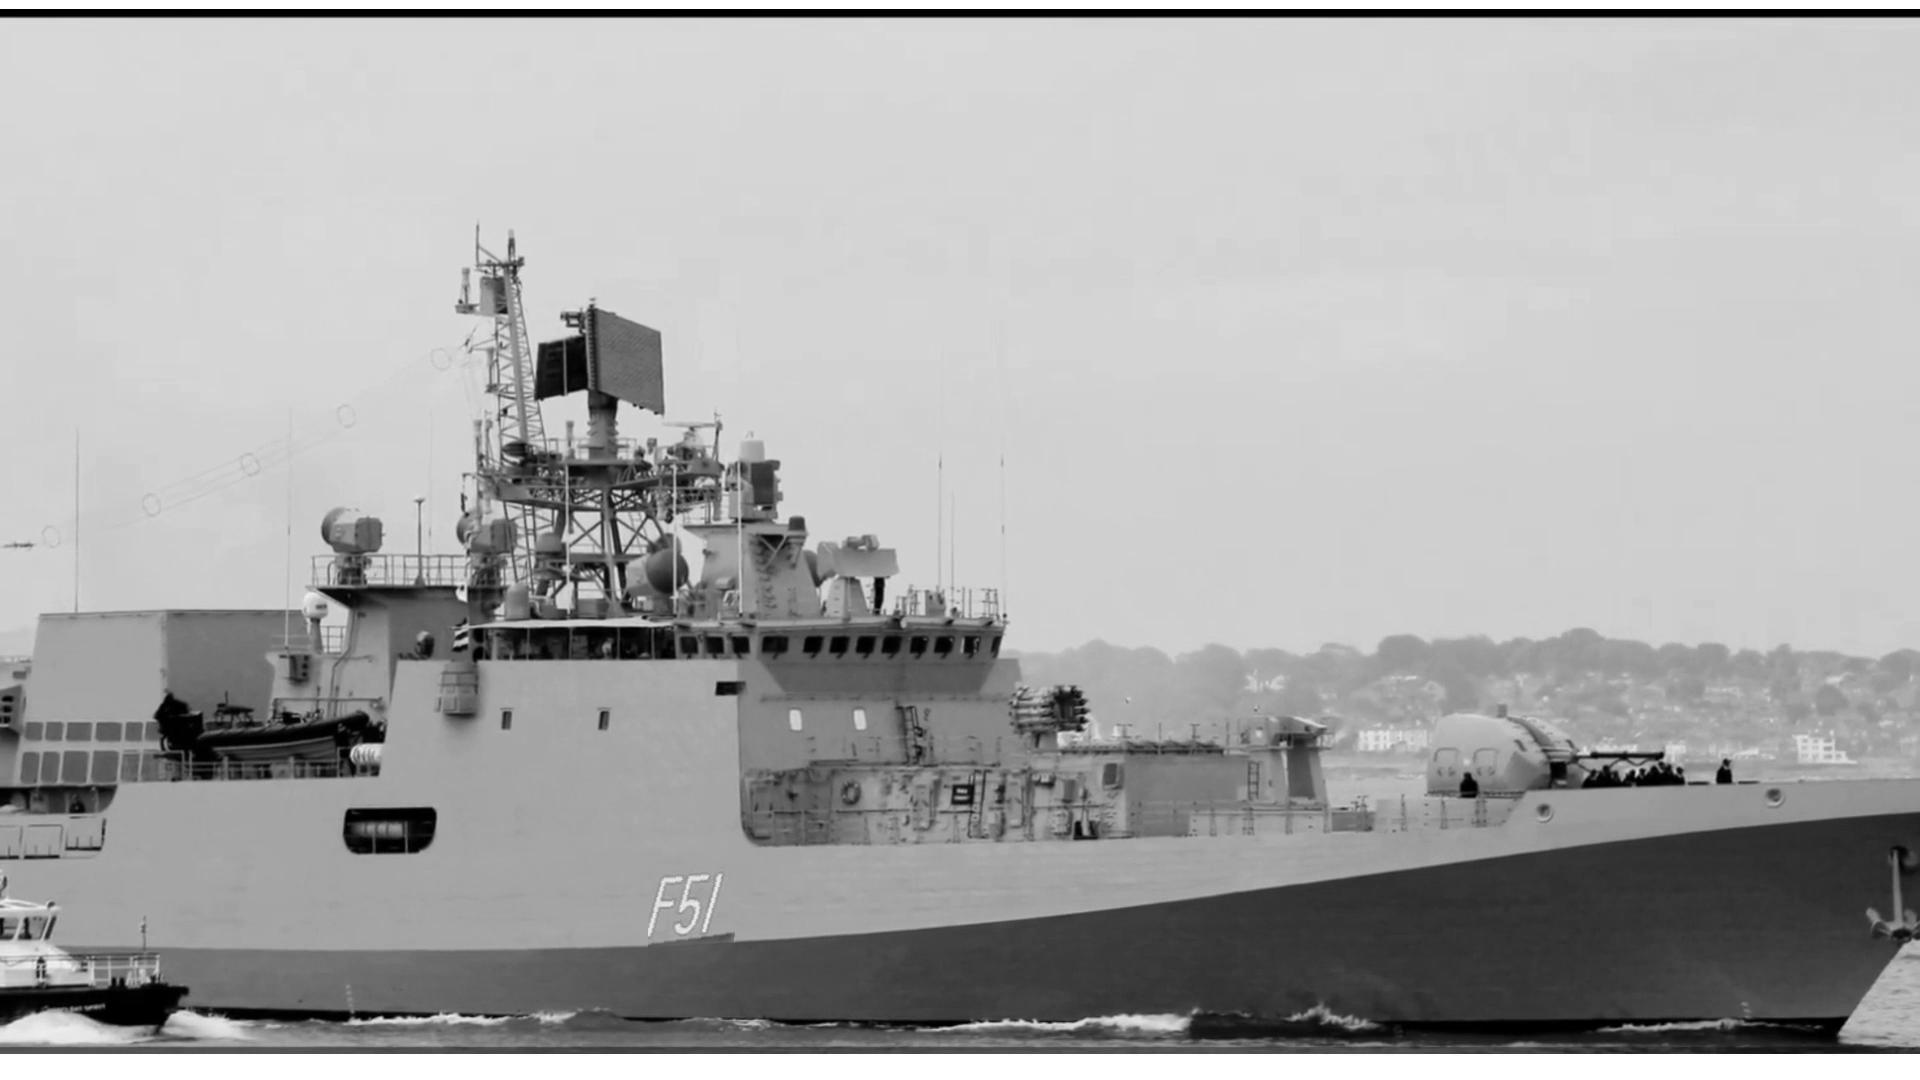OCR: (649, 864, 750, 952)
